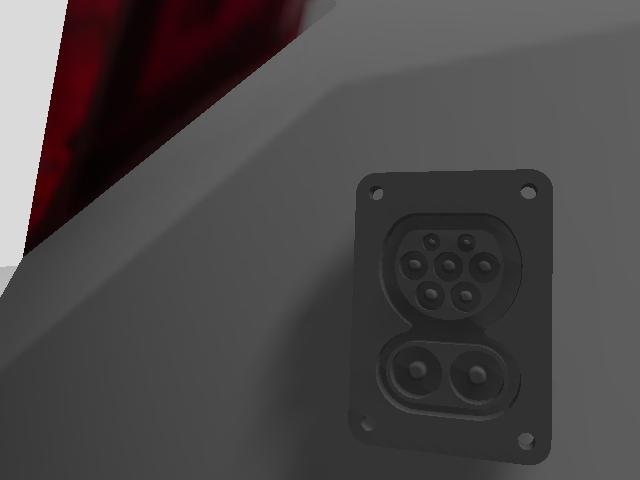EV-socket: (348, 170, 551, 464)
